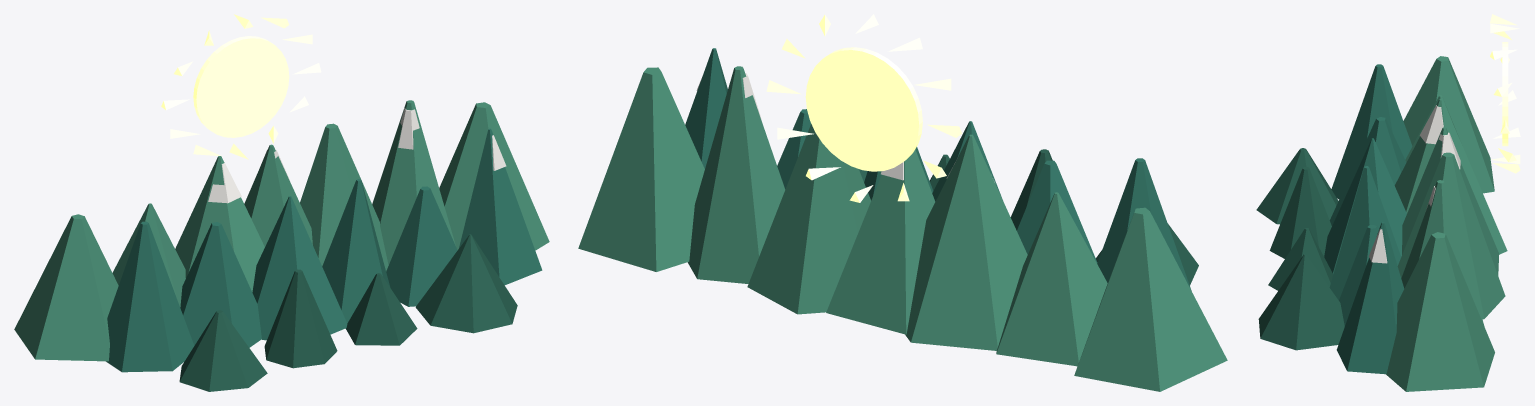
File: norte-range.glb
3 views of the same model, side by side, from view 1: azimuth 30°, elevation 25°; view 2: azimuth 150°, elevation 25°; view 3: azimuth 270°, elevation 25° (orthographic). The views are drawn at different scales.
Visible parts, largest first — view 1: Peak_B0, Peak_M0, Sun_Disc, Peak_F3, Peak_M5, Peak_M1, Peak_M2, Peak_B6, Peak_B4, Peak_M4, Peak_M3, Peak_B5 (+8 smaller); view 2: Peak_B2, Peak_B6, Peak_B0, Peak_B4, Peak_B5, Sun_Disc, Peak_B1, Peak_B3, Peak_M0, Peak_M5, Peak_M1, Peak_M4 (+3 smaller); view 3: Peak_B6, Peak_M5, Peak_F3, Peak_B4, Peak_B0, Peak_M0, Peak_M2, Peak_M3, Peak_F1, Peak_B2, Peak_B5, Peak_F0 (+9 smaller).
Boxes of the visible parts, x1,y1,x2,y2 form: Peak_B0: (14,214,118,361); Peak_M0: (106,221,194,372); Sun_Disc: (193,36,289,137); Peak_F3: (415,234,517,333); Peak_M5: (459,128,542,285); Peak_M1: (180,222,261,347); Peak_M2: (252,196,347,340); Peak_B6: (439,102,549,250); Peak_B4: (300,123,388,271); Peak_M4: (386,186,457,306); Peak_M3: (322,179,390,323); Peak_B5: (372,100,455,264); Peak_B2: (905,134,1027,350); Peak_B6: (578,67,704,271); Peak_B0: (1074,207,1227,391); Peak_B4: (747,124,870,314); Peak_B5: (687,66,785,283); Sun_Disc: (805,47,922,171); Peak_B1: (996,192,1107,366); Peak_B3: (826,149,935,334); Peak_M0: (1097,158,1191,290); Peak_M5: (685,48,727,168); Peak_M1: (1017,160,1097,263); Peak_M4: (777,109,810,189); Peak_B6: (1386,232,1494,391); Peak_M5: (1336,222,1404,374); Peak_F3: (1258,254,1344,350); Peak_B4: (1397,152,1505,319); Peak_B0: (1403,56,1494,193); Peak_M0: (1331,64,1412,199); Peak_M2: (1324,138,1406,273); Peak_M3: (1329,166,1401,300); Peak_F1: (1269,166,1331,258); Peak_B2: (1394,99,1507,254); Peak_B5: (1401,180,1484,325); Peak_F0: (1256,148,1338,224).
Size of what is drawn, in the model's own units: 28.51 by 13.6 by 13.17.
